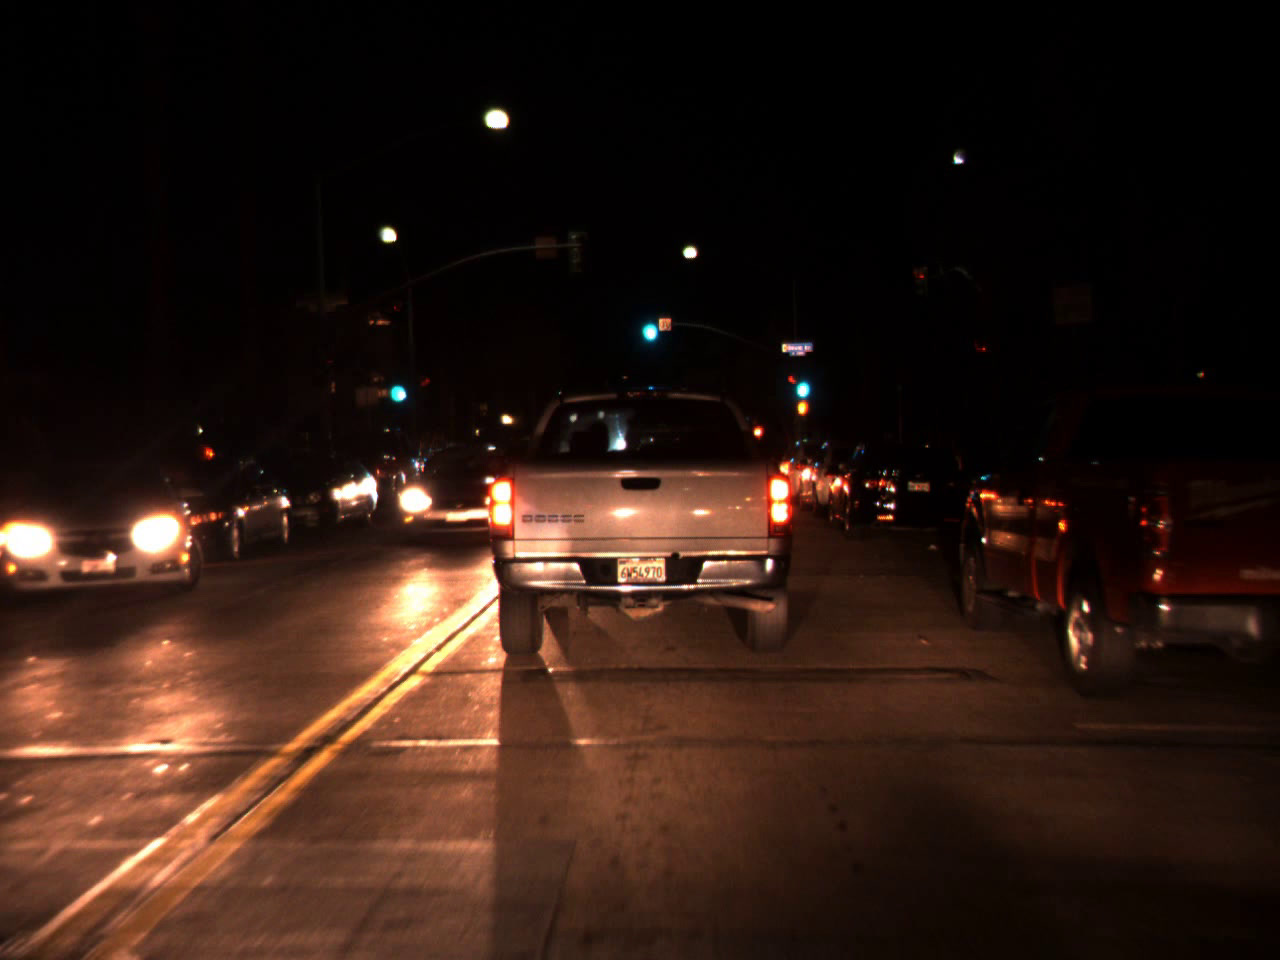go: (637, 302, 660, 347), (386, 366, 407, 408), (792, 362, 811, 404)
